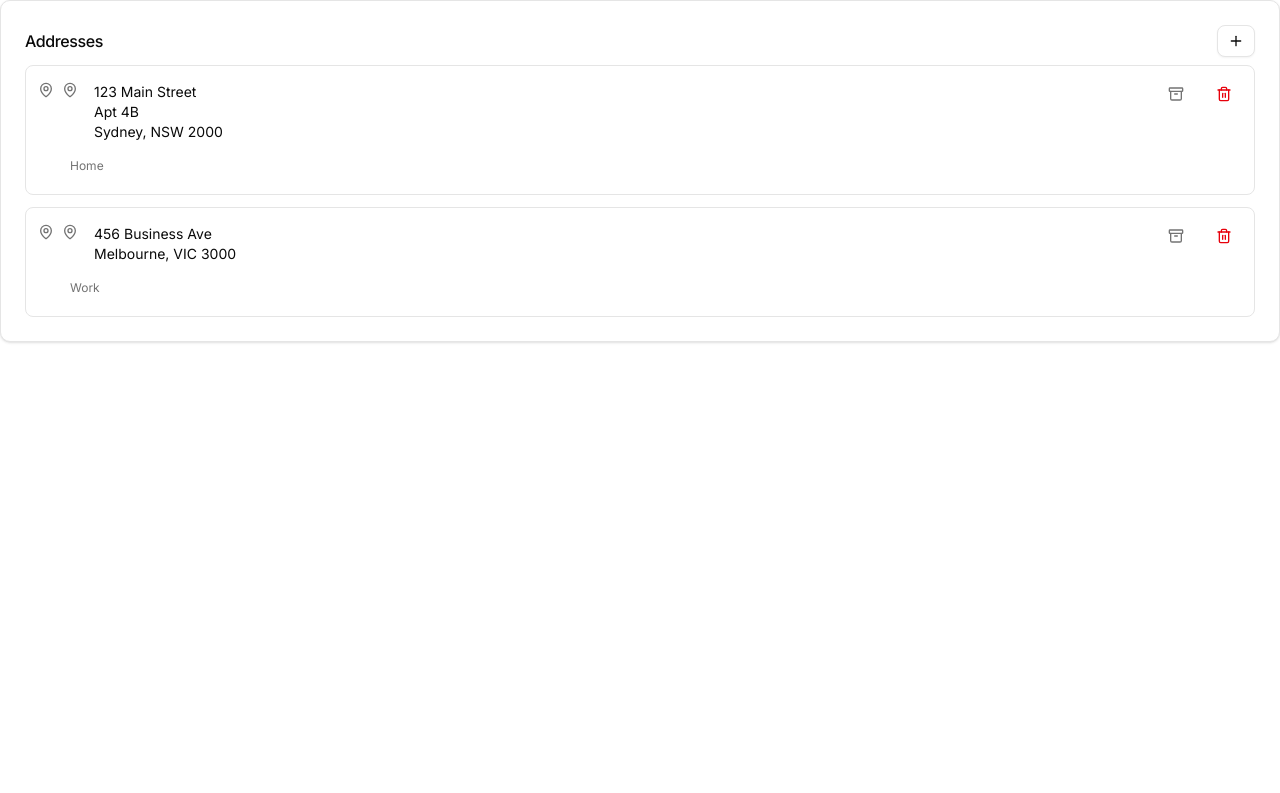
Scenario: ContactAddressesList › closes the add form when the add is refused as a conflict
Click the button named "Add address": {"x": 1236, "y": 41} [1217, 25, 1255, 57]
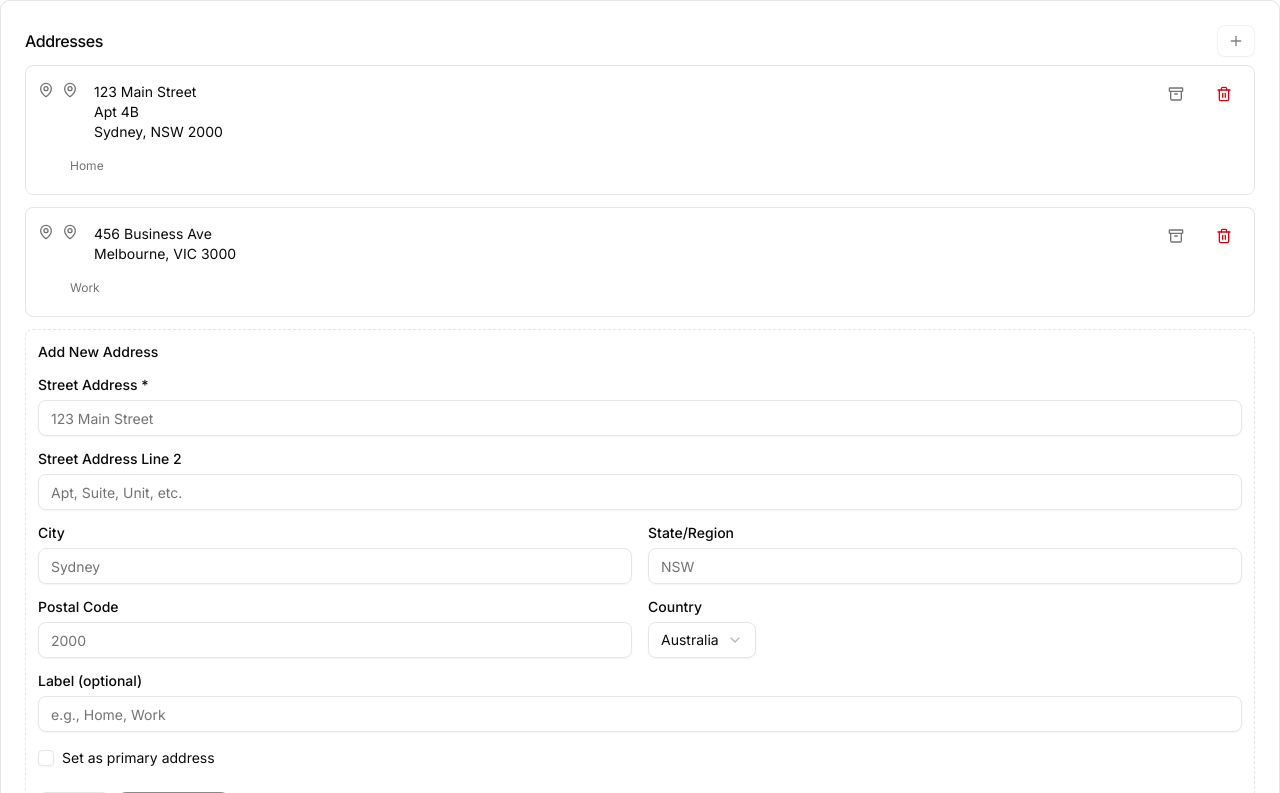
In the field with placeholder "123 Main Street": {"x": 640, "y": 418} [38, 400, 1242, 436], type "1 New Street"
(page scrolled)
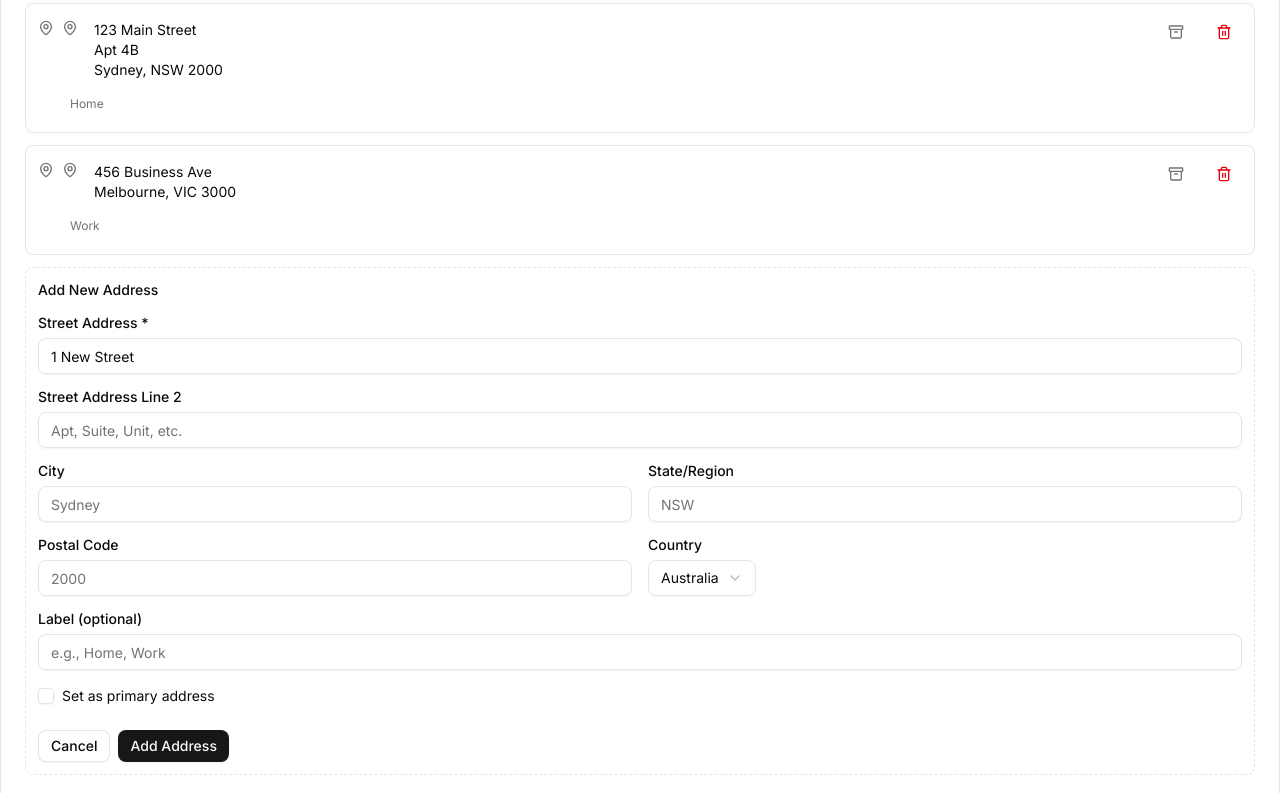
Click the button "Add Address": {"x": 174, "y": 746} [118, 730, 229, 762]
(page scrolled)
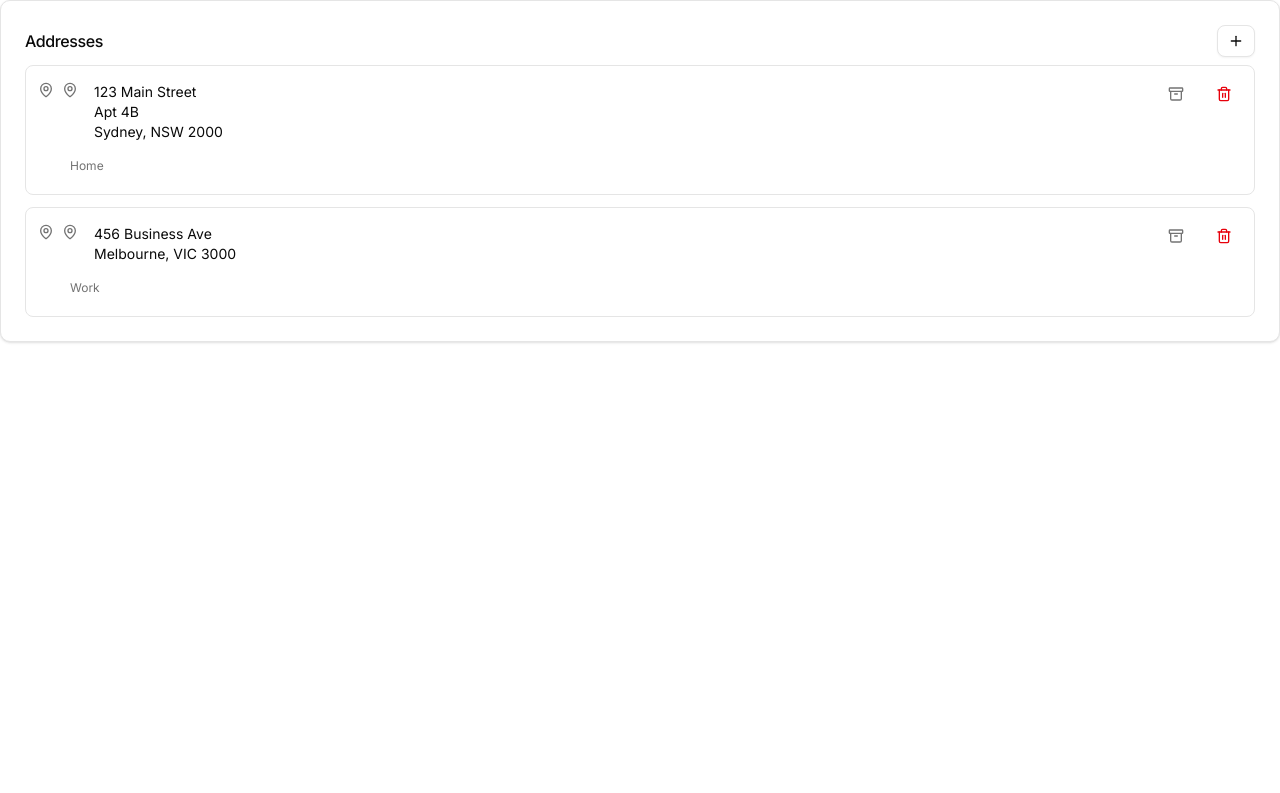
Check: the button "Add Address" is gone
